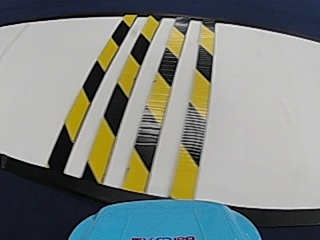bump: (51, 21, 223, 181)
